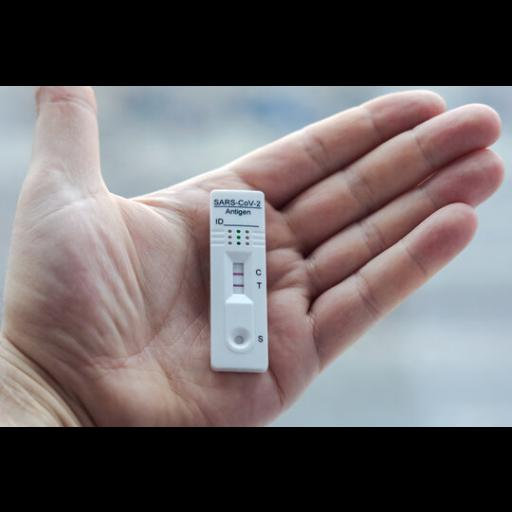Pos: (210, 188, 266, 370)
